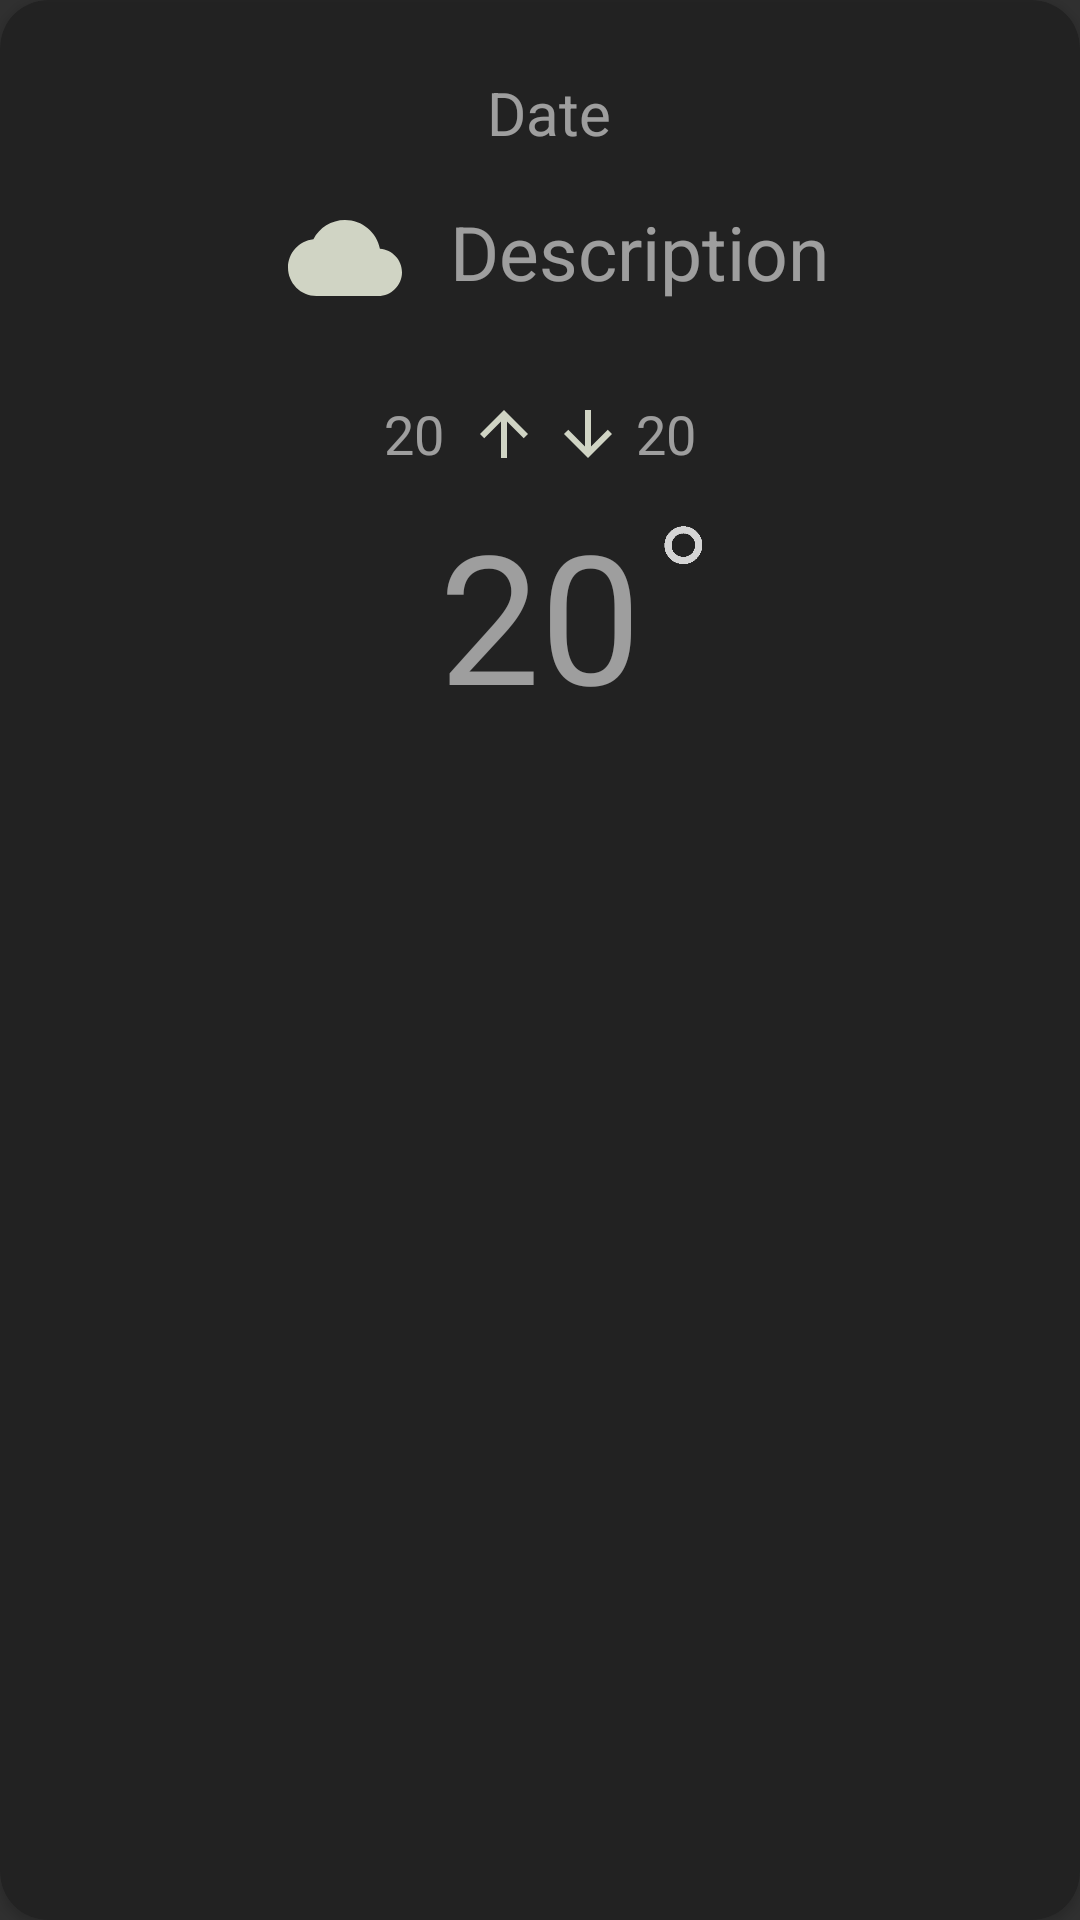

Point at icon controls on the screen. Image size 1080 × 1920, points as (x,y).
arrow downward: (588,434)
arrow upward: (504,434)
cloud: (345,258)
degreee: (683,545)
